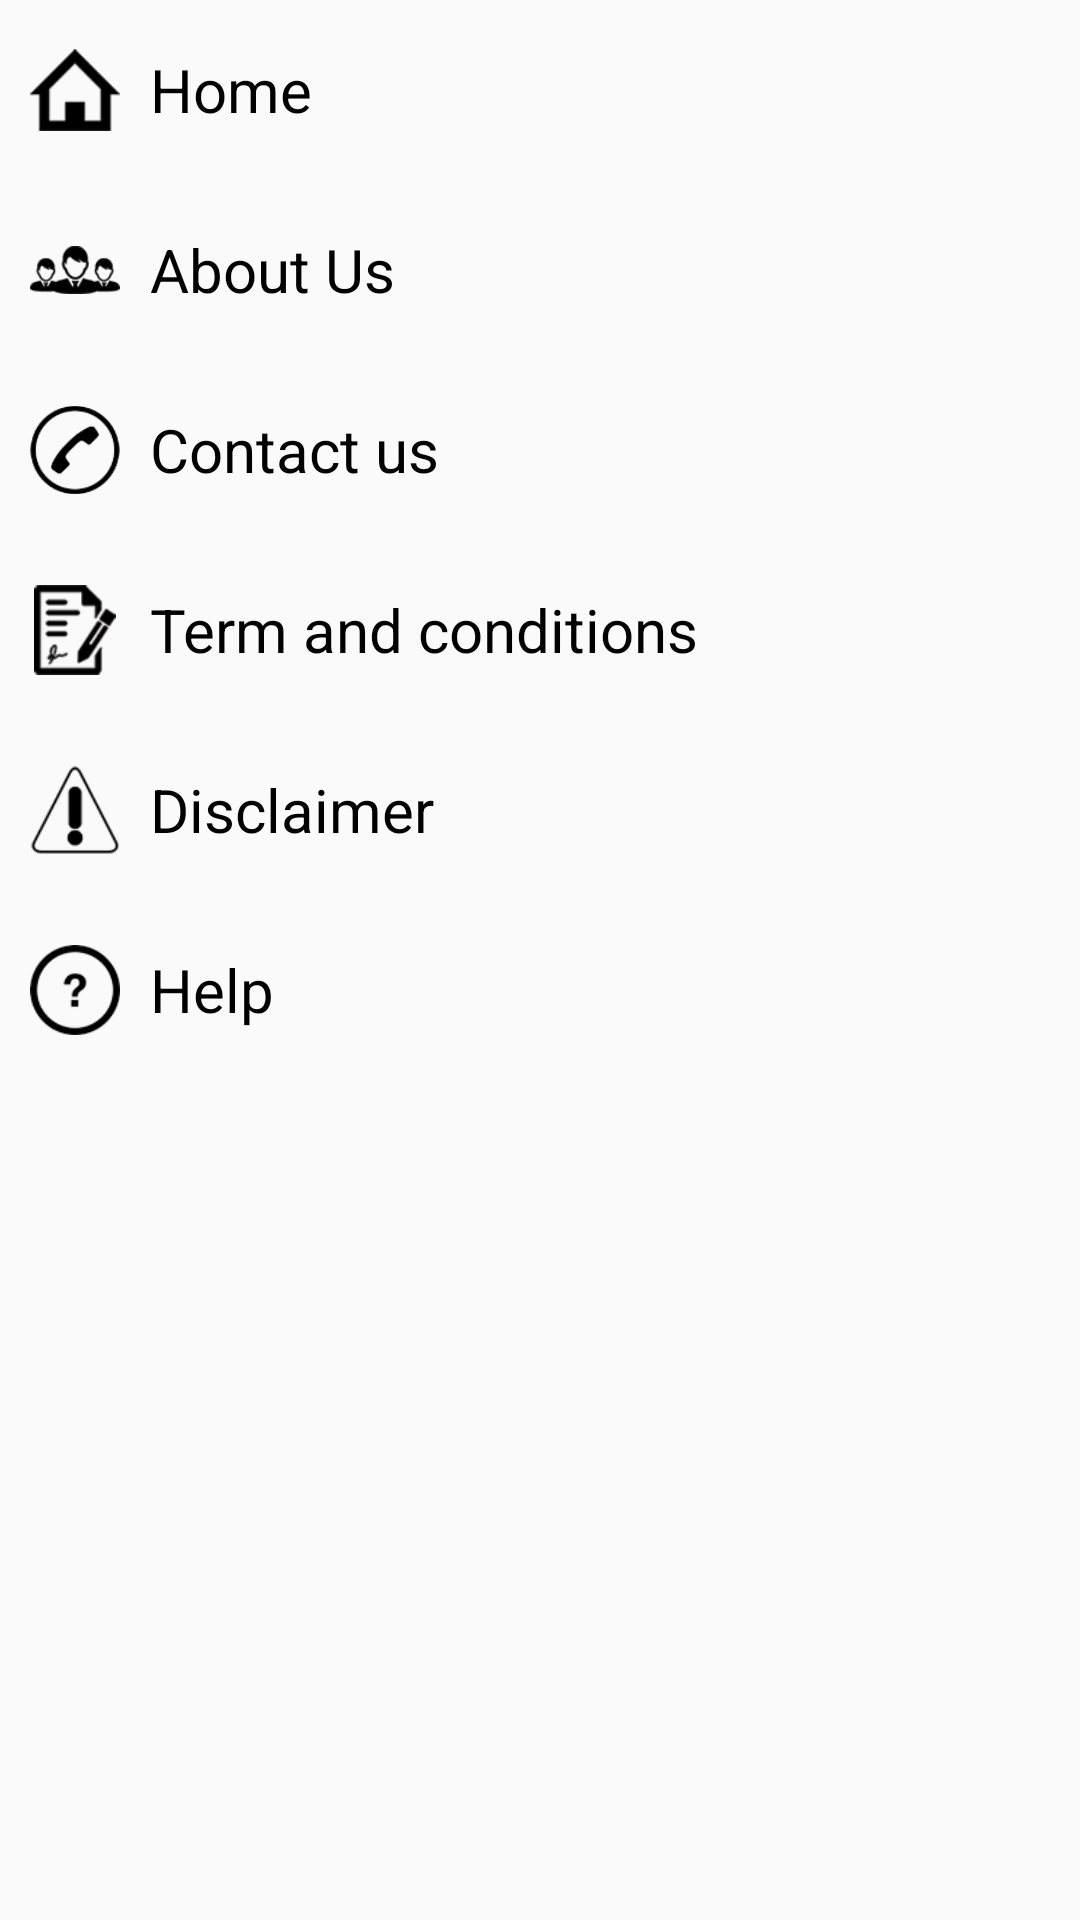

Icons on this 1080 × 1920 Android screen, each with its box as detection(x1, y1, x2, y2):
side menu abou us: detection(30, 246, 120, 294)
side menu diclaimer: detection(31, 766, 119, 854)
side menu terms conditions: detection(34, 585, 116, 675)
